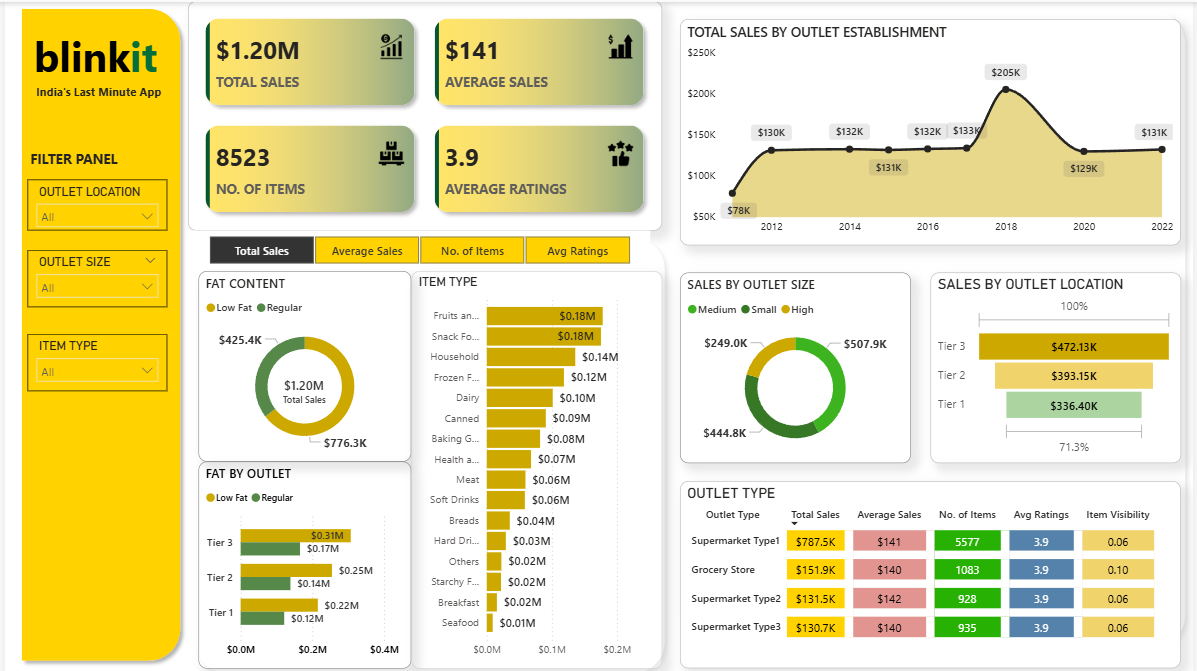

The dashboard page shown, as its layout file describes it:
{"tool":"powerbi","page":{"name":"Page 1","canvas":[1400,800],"ordinal":0},"visuals":[{"type":"shape","box":[10.6,0,205,786.5],"z":0},{"type":"textbox","box":[10.6,26.5,192.6,129],"z":1000},{"type":"textbox","box":[31.8,91.9,171.4,28.3],"z":2000},{"type":"cardVisual","fields":{"Data":["BlinkIT Grocery Data.Total Sales","BlinkIT Grocery Data.Average Sales","BlinkIT Grocery Data.No. of Items","BlinkIT Grocery Data.Avg Ratings"]},"box":[215.6,0,558.5,270.4],"z":3000},{"type":"shape","box":[215.6,270.4,570.9,530.2],"z":4000},{"type":"donutChart","title":"FAT CONTENT","fields":{"Y":["BlinkIT Grocery Data.No. of Items"],"Category":["BlinkIT Grocery Data.Item Fat Content"]},"box":[228,318.1,251,224.5],"z":5000},{"type":"slicer","fields":{"Values":["Metrics.Metrics"]},"box":[215.6,270.4,544.3,46],"z":6000},{"type":"cardVisual","fields":{"Data":["BlinkIT Grocery Data.No. of Items"]},"box":[288.1,417.1,129,83.1],"z":7000},{"type":"clusteredBarChart","title":"FAT BY OUTLET","fields":{"Y":["BlinkIT Grocery Data.No. of Items"],"Category":["BlinkIT Grocery Data.Outlet Location Type"],"Series":["BlinkIT Grocery Data.Item Fat Content"]},"box":[228,542.6,251,243.9],"z":8000},{"type":"barChart","title":"ITEM TYPE","fields":{"Y":["BlinkIT Grocery Data.No. of Items"],"Category":["BlinkIT Grocery Data.Item Type"]},"box":[479,318.1,295.1,468.3],"z":9000},{"type":"shape","box":[786.5,0,613.3,774.1],"z":10000},{"type":"lineChart","title":"TOTAL SALES BY OUTLET ESTABLISHMENT","fields":{"Category":["BlinkIT Grocery Data.Outlet Establishment Year"],"Y":["BlinkIT Grocery Data.Total Sales"]},"box":[795.3,21.2,590.3,266.9],"z":11000},{"type":"donutChart","title":"SALES BY OUTLET SIZE","fields":{"Y":["BlinkIT Grocery Data.Total Sales"],"Category":["BlinkIT Grocery Data.Outlet Size"]},"box":[795.3,319.9,272.2,224.5],"z":12000},{"type":"funnel","title":"SALES BY OUTLET LOCATION","fields":{"Y":["BlinkIT Grocery Data.Total Sales"],"Category":["BlinkIT Grocery Data.Outlet Location Type"]},"box":[1090.5,319.9,295.1,224.5],"z":13000},{"type":"pivotTable","title":"OUTLET TYPE","fields":{"Rows":["BlinkIT Grocery Data.Outlet Type"],"Values":["BlinkIT Grocery Data.Total Sales","BlinkIT Grocery Data.Average Sales","BlinkIT Grocery Data.No. of Items","BlinkIT Grocery Data.Avg Ratings","Avg(BlinkIT Grocery Data.Item Visibility)"]},"box":[795.3,565.6,590.3,220.9],"z":14000},{"type":"slicer","fields":{"Values":["BlinkIT Grocery Data.Outlet Location Type"]},"box":[26.5,210.3,164.4,60.1],"z":14001},{"type":"slicer","fields":{"Values":["BlinkIT Grocery Data.Outlet Size"]},"box":[26.5,293.4,164.4,67.2],"z":14002},{"type":"slicer","fields":{"Values":["BlinkIT Grocery Data.Item Type"]},"box":[26.5,392.4,164.4,67.2],"z":14003},{"type":"textbox","box":[24.7,169.7,152,40.6],"z":14004}]}

Visuals, with their boxes in screenshot pixels (x1, y1, x2, y2), scaled from the page's 1400x800 canvas onto the 1197x671 screenshot:
shape: (left=9, top=0, right=184, bottom=660)
textbox: (left=9, top=22, right=174, bottom=130)
textbox: (left=27, top=77, right=174, bottom=101)
cardVisual - BlinkIT Grocery Data.Total Sales x BlinkIT Grocery Data.Average Sales: (left=184, top=0, right=662, bottom=227)
shape: (left=184, top=227, right=672, bottom=670)
"FAT CONTENT" donutChart: (left=195, top=267, right=410, bottom=455)
slicer - Metrics.Metrics: (left=184, top=227, right=650, bottom=265)
cardVisual - BlinkIT Grocery Data.No. of Items: (left=246, top=350, right=357, bottom=420)
"FAT BY OUTLET" clusteredBarChart: (left=195, top=455, right=410, bottom=660)
"ITEM TYPE" barChart: (left=410, top=267, right=662, bottom=660)
shape: (left=672, top=0, right=1196, bottom=649)
"TOTAL SALES BY OUTLET ESTABLISHMENT" lineChart: (left=680, top=18, right=1185, bottom=242)
"SALES BY OUTLET SIZE" donutChart: (left=680, top=268, right=913, bottom=457)
"SALES BY OUTLET LOCATION" funnel: (left=932, top=268, right=1185, bottom=457)
"OUTLET TYPE" pivotTable: (left=680, top=474, right=1185, bottom=660)
slicer - BlinkIT Grocery Data.Outlet Location Type: (left=23, top=176, right=163, bottom=227)
slicer - BlinkIT Grocery Data.Outlet Size: (left=23, top=246, right=163, bottom=302)
slicer - BlinkIT Grocery Data.Item Type: (left=23, top=329, right=163, bottom=385)
textbox: (left=21, top=142, right=151, bottom=176)
